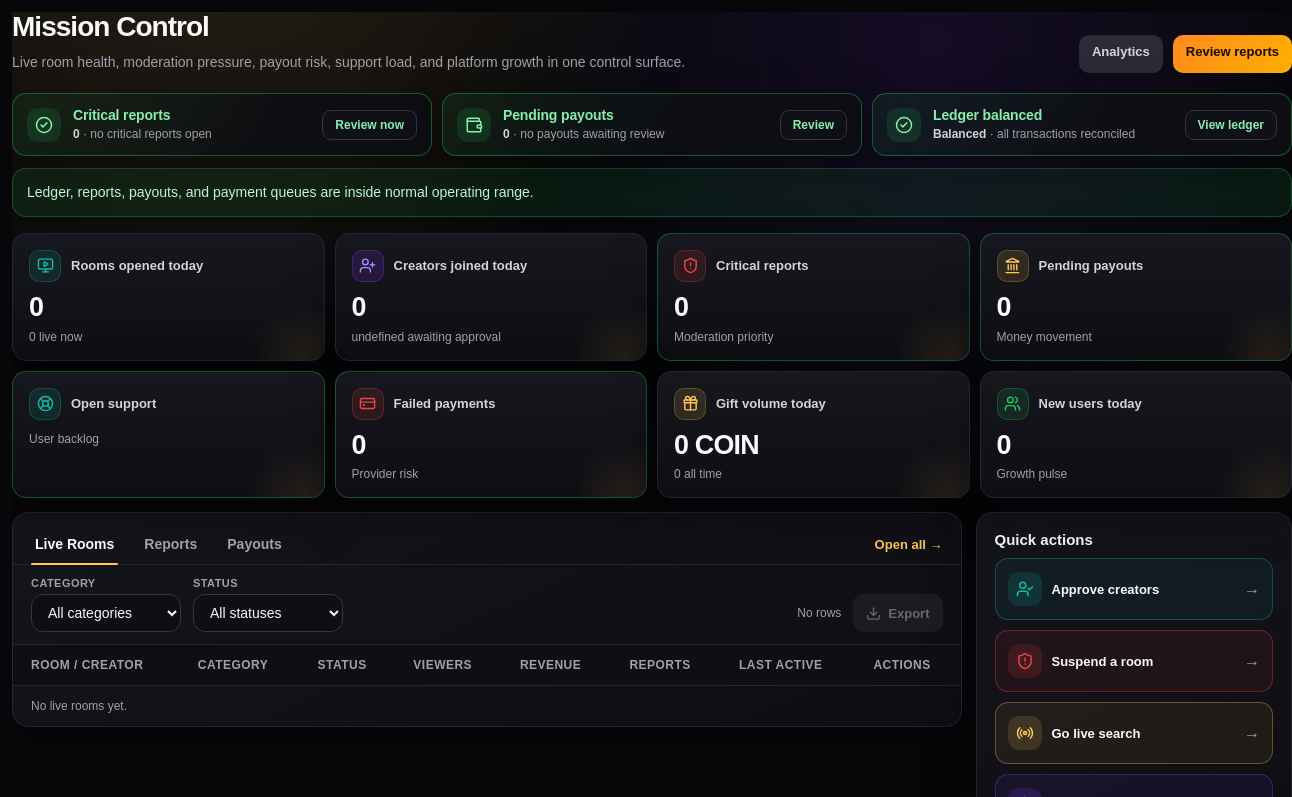
Test case: DashboardPage › reports a failed tab fetch without blocking the others
What coordinates should you click on to do the following:
click the tab "Reports"
I would click on:
 (171, 546)
Its box is [140,527,201,564].
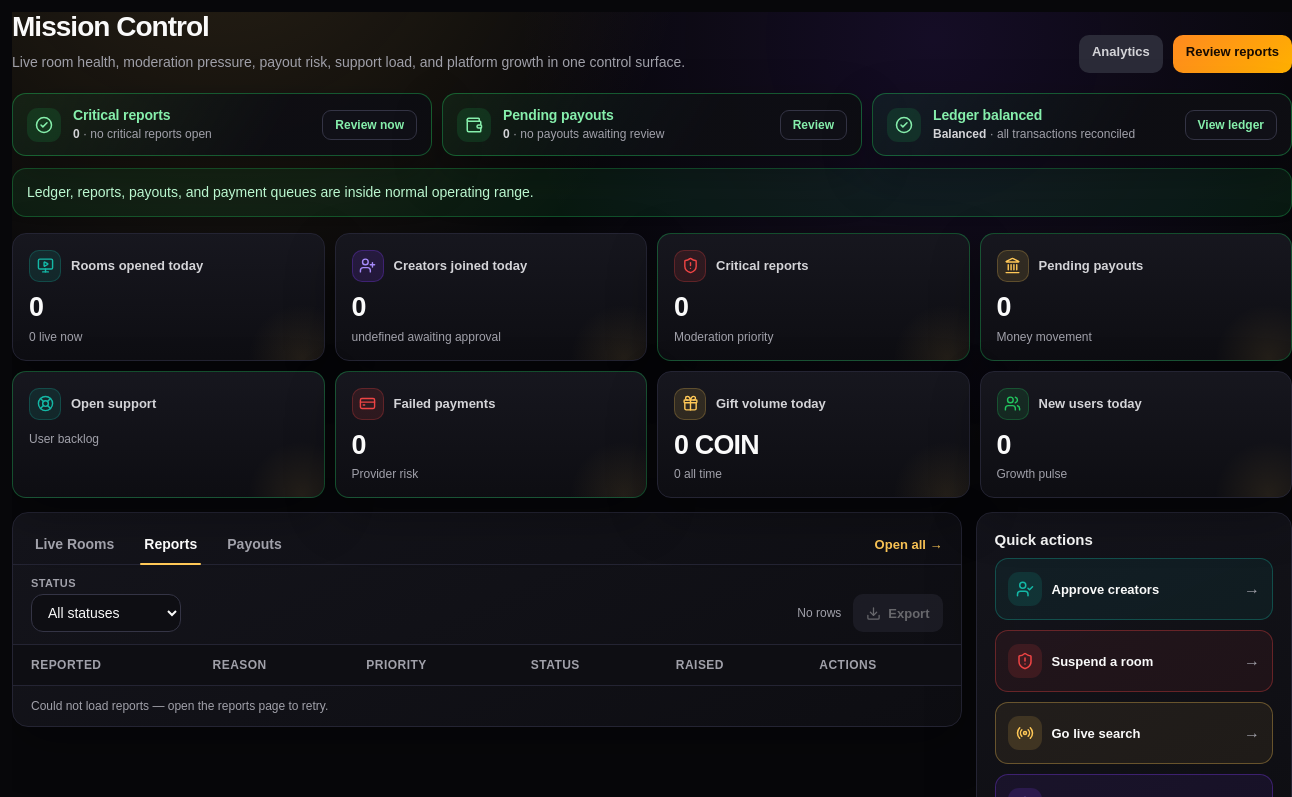
Check: the text "Could not load reports — open the reports page to retry." is shown, box [13,686,960,726]
What coordinates should you click on to do the following:
click the tab "Payouts"
I would click on:
 (255, 546)
Its box is [223,527,286,564].
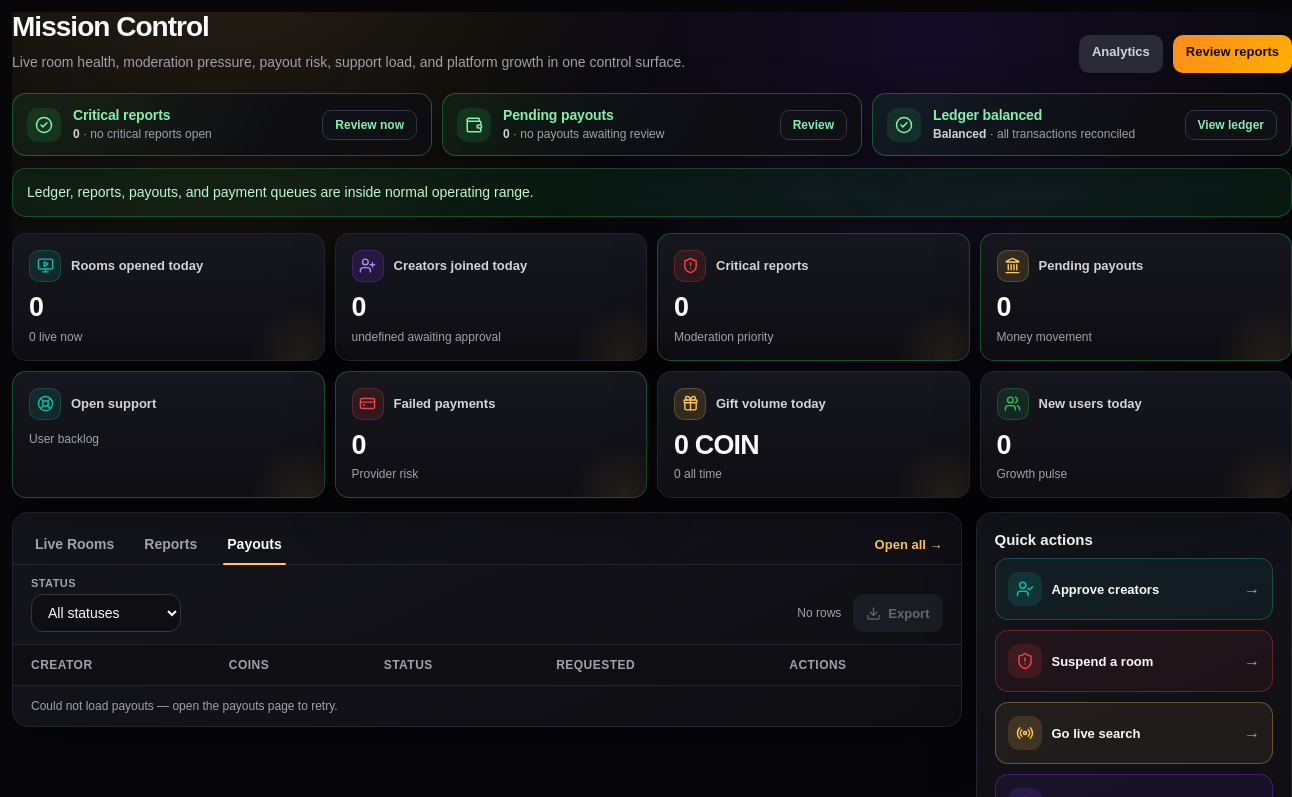
Check: the text "Could not load payouts — open the payouts page to retry." is shown, box [13,686,960,726]
